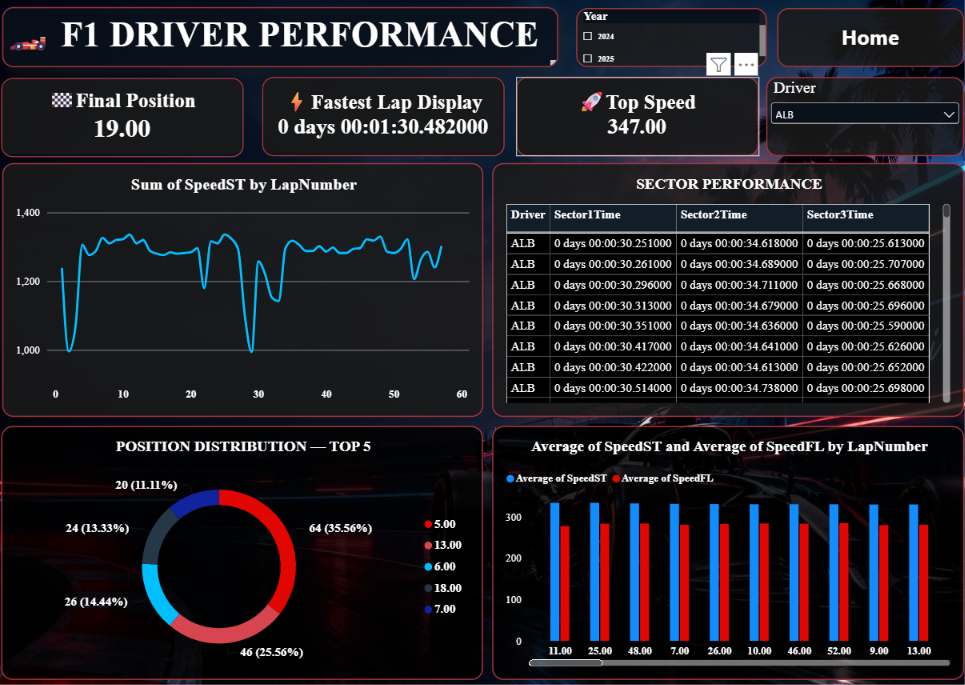

This screenshot's page, from the dashboard's own definition file:
{"tool":"powerbi","page":{"name":"DRIVER PERFORMANCE","canvas":[1280,910],"ordinal":2},"visuals":[{"type":"textbox","title":"🏎️ F1 DRIVER PERFORMANCE","box":[9.2,14.4,730.1,79.2],"z":0},{"type":"slicer","fields":{"Values":["F1_Miami_Data.LapStartDate.Variation.Date Hierarchy.Year"]},"box":[762.6,15.6,250.7,77.9],"z":1000},{"type":"actionButton","box":[1027.6,15.6,245.5,77.9],"z":2000},{"type":"cardVisual","fields":{"Data":["F1_Miami_Data.Final Position"]},"box":[7.9,107.7,318.3,103.9],"z":2001},{"type":"slicer","fields":{"Values":["F1_Miami_Data.Driver"]},"box":[1013.3,106.5,259.8,103.9],"z":2002},{"type":"cardVisual","fields":{"Data":["F1_Miami_Data.⚡Fastest Lap Display"]},"box":[350.8,106.5,318.3,103.9],"z":2003},{"type":"cardVisual","fields":{"Data":["F1_Miami_Data.🚀Top Speed"]},"box":[684.6,106.5,318.3,103.9],"z":2004},{"type":"lineChart","fields":{"Category":["F1_Miami_Data.LapNumber"],"Y":["Sum(F1_Miami_Data.SpeedST)"]},"box":[9.2,219.4,631.8,333.6],"z":2005},{"type":"tableEx","title":"SECTOR PERFORMANCE","fields":{"Values":["F1_Miami_Data.Driver","F1_Miami_Data.Sector1Time","F1_Miami_Data.Sector2Time","F1_Miami_Data.Sector3Time"]},"box":[653.4,219.5,619.7,333.9],"z":2006},{"type":"donutChart","title":"POSITION DISTRIBUTION — TOP 5","fields":{"Category":["F1_Miami_Data.Position"],"Y":["CountNonNull(F1_Miami_Data.LapNumber)"]},"box":[7.9,564.8,633.1,333.6],"z":2007},{"type":"clusteredColumnChart","fields":{"Category":["F1_Miami_Data.LapNumber"],"Y":["Avg(F1_Miami_Data.SpeedST)","Avg(F1_Miami_Data.SpeedFL)"]},"box":[652.8,564.8,620,333.6],"z":2008}]}

Visuals, with their boxes in screenshot pixels (x1, y1, x2, y2), scaled from the page's 1280x910 canvas onto the 965x685 screenshot:
"🏎️ F1 DRIVER PERFORMANCE" textbox: locate(7, 11, 557, 70)
slicer - F1_Miami_Data.LapStartDate.Variation.Date Hierarchy.Year: locate(575, 12, 764, 70)
actionButton: locate(775, 12, 960, 70)
cardVisual - F1_Miami_Data.Final Position: locate(6, 81, 246, 159)
slicer - F1_Miami_Data.Driver: locate(764, 80, 960, 158)
cardVisual - F1_Miami_Data.⚡Fastest Lap Display: locate(264, 80, 504, 158)
cardVisual - F1_Miami_Data.🚀Top Speed: locate(516, 80, 756, 158)
lineChart - F1_Miami_Data.LapNumber x Sum(F1_Miami_Data.SpeedST): locate(7, 165, 483, 416)
"SECTOR PERFORMANCE" tableEx: locate(493, 165, 960, 417)
"POSITION DISTRIBUTION — TOP 5" donutChart: locate(6, 425, 483, 676)
clusteredColumnChart - F1_Miami_Data.LapNumber x Avg(F1_Miami_Data.SpeedST): locate(492, 425, 960, 676)
